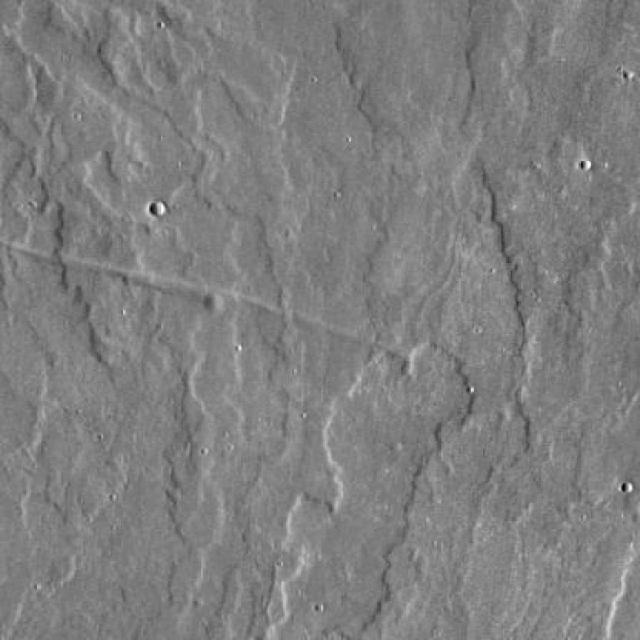crater: (206, 292, 228, 313), (149, 199, 166, 215)
